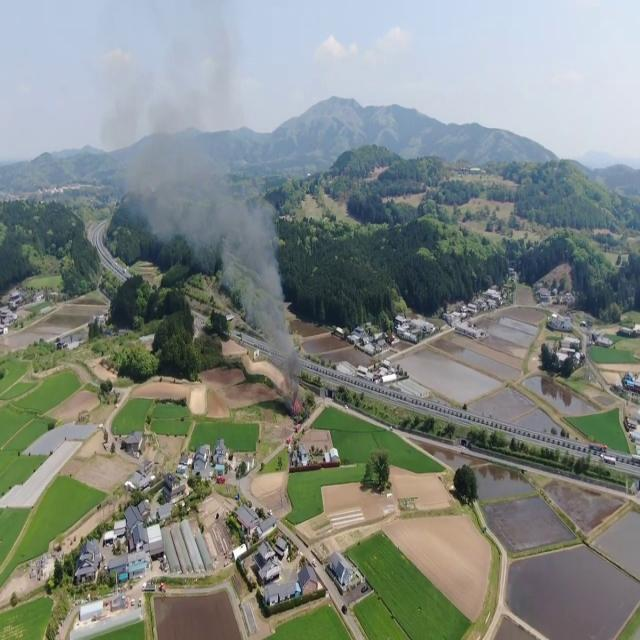Smoke: (200, 155, 298, 369)
